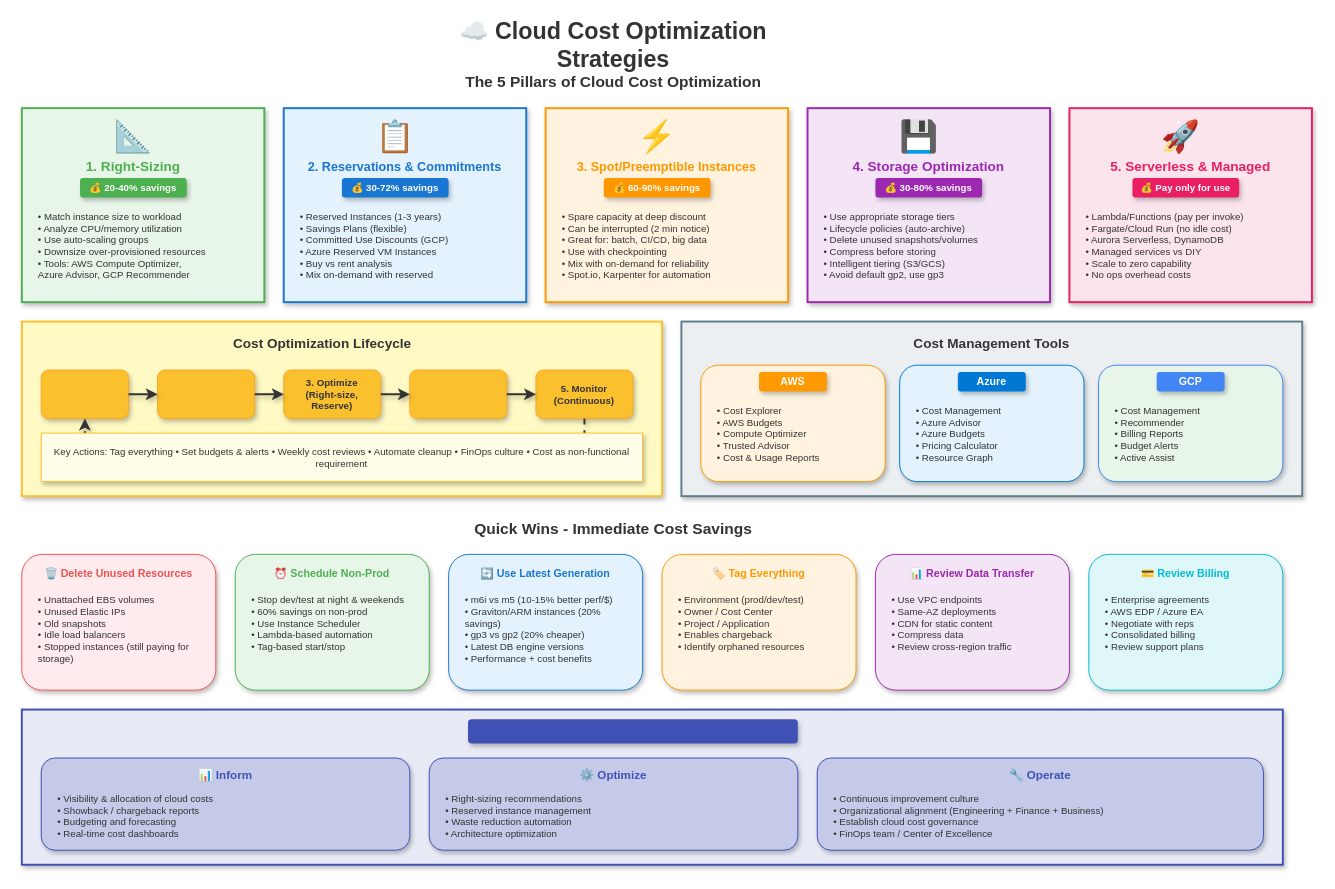
Some shapes in this 1335 by 889 pixel diagram are drawn without their labels. The shapes that lost their labels are listed below. From the top down, each one's centre as x and y in pixels, then its label:
At (x=85, y=395): "1. Visibility (Tag, Track)".
At (x=206, y=395): "2. Analyze (Reports, Anomalies)".
At (x=459, y=395): "4. Govern (Budgets, Policies)".
At (x=633, y=732): "FinOps Framework - Cloud Financial Management".
